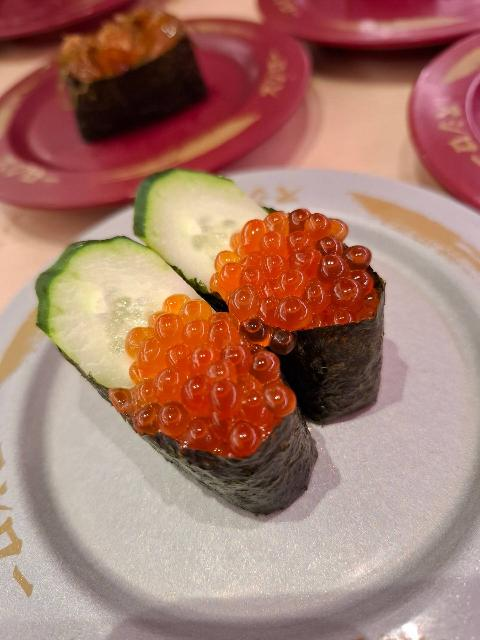janred: (6, 30, 277, 185), (393, 38, 480, 222), (258, 0, 472, 65), (6, 0, 115, 40)
janwhite: (8, 171, 480, 621)
